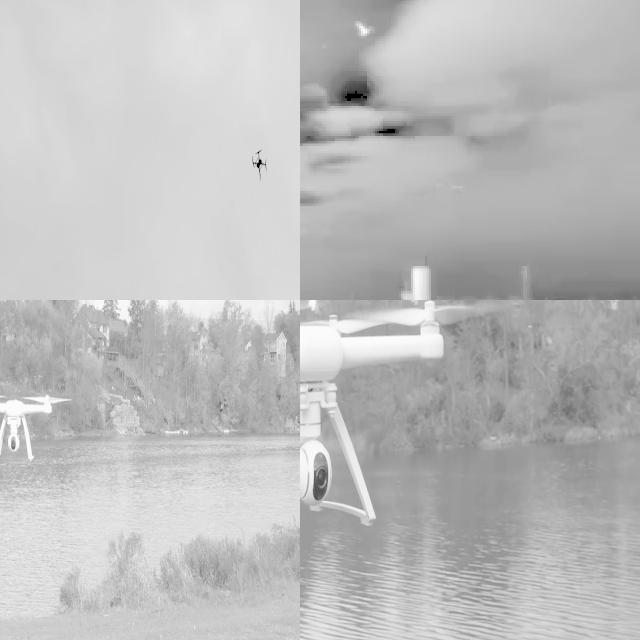0: (349, 16, 375, 48)
drone: (300, 300, 473, 550), (0, 389, 57, 461), (252, 143, 272, 178)
